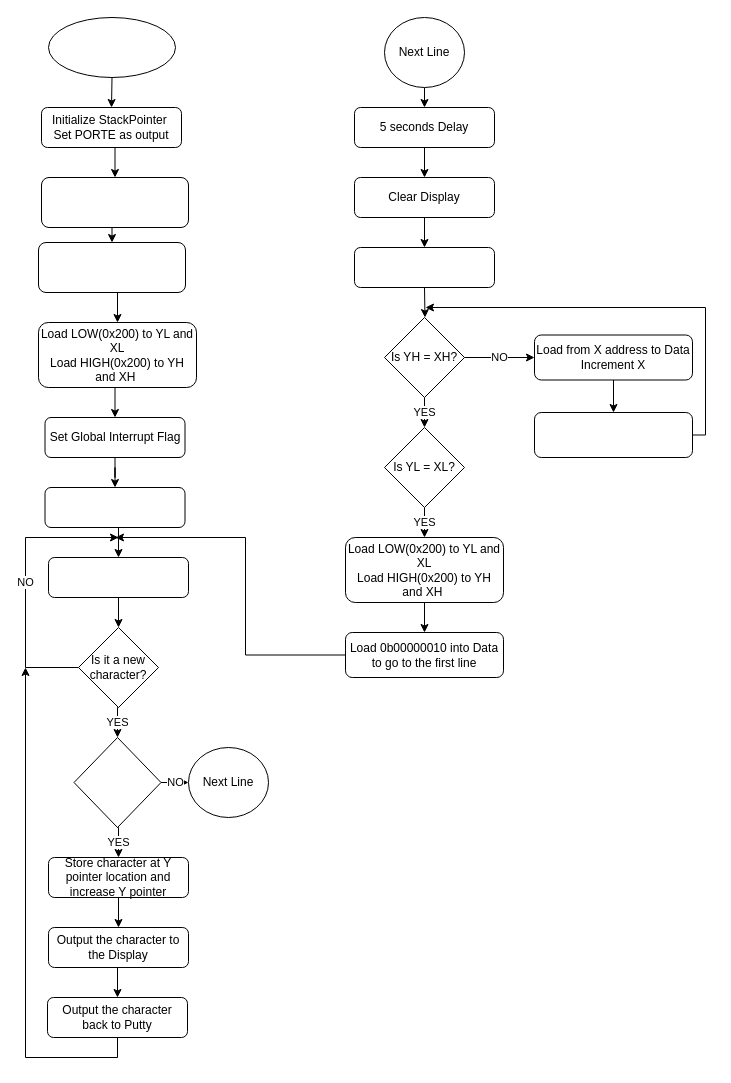
The diagram is 731 pixels wide and 1083 high, and some of its shapes have lost their labels. The shapes that lost their labels are listed below. From the top down, each one's centre as x and y in pixels, then its label:
[112,47]: Start
[114,202]: Set UBR1L as 23
[112,267]: Enable flags for RXEN1 and TXEN1 in UCSR1B
[424,267]: Jumps to second line when load Data with 0x40
[613,435]: Output Data to the Display
[114,507]: Initialize display
[118,577]: Read UCSR1A I/O register to r21
[117,782]: Is is the "Enter" key?
